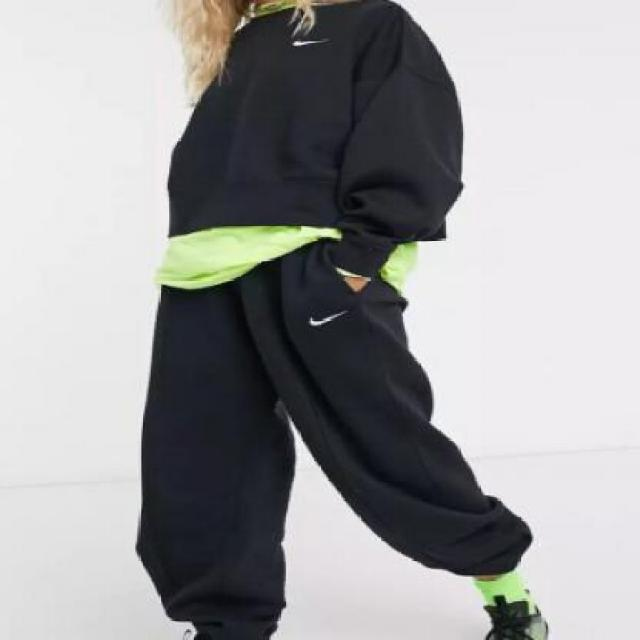Nike: (305, 309, 343, 326)
